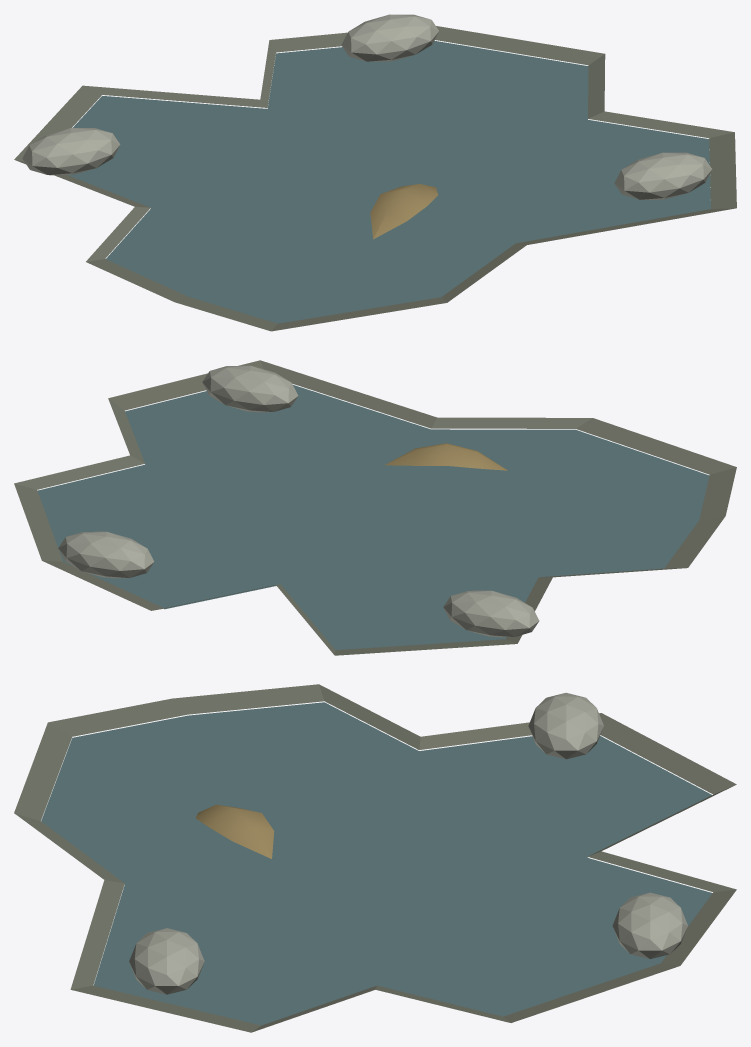
Rendered from 036_asymmetric_puddle.glb.
The picture shows the model from 3 angles, top to bottom: view 1: azimuth 30°, elevation 25°; view 2: azimuth 150°, elevation 25°; view 3: azimuth 270°, elevation 25°; orthographic projection. The views are drawn at different scales.
Visible parts, largest first — view 1: GND036_WaterSurface, GND036_MudRim, GND-036_stones, Puddle_fallen_leaf; view 2: GND036_WaterSurface, GND036_MudRim, GND-036_stones, Puddle_fallen_leaf; view 3: GND036_WaterSurface, GND036_MudRim, GND-036_stones, Puddle_fallen_leaf.
Boxes of the visible parts, x1,y1,x2,y2 form: GND036_WaterSurface: (67,40,710,323); GND036_MudRim: (14,26,736,331); GND-036_stones: (22,14,712,199); Puddle_fallen_leaf: (370,184,438,239); GND036_WaterSurface: (37,385,709,649); GND036_MudRim: (14,360,736,655); GND-036_stones: (58,365,539,637); Puddle_fallen_leaf: (384,443,507,470); GND036_WaterSurface: (41,702,712,1025); GND036_MudRim: (14,684,736,1032); GND-036_stones: (129,692,687,994); Puddle_fallen_leaf: (195,804,274,858).
Bounding box in the file's own units: 0.7847 × 0.0477 × 0.688.
